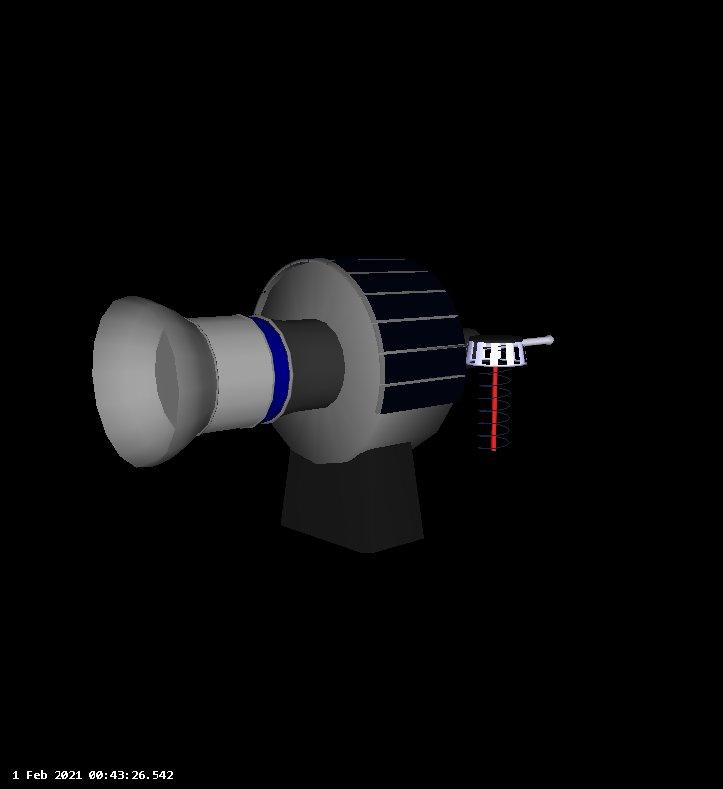antenna: (463, 334, 527, 457)
body: (253, 255, 467, 468)
solar: (312, 251, 470, 415)
thruster: (88, 294, 238, 470), (281, 444, 428, 554)
